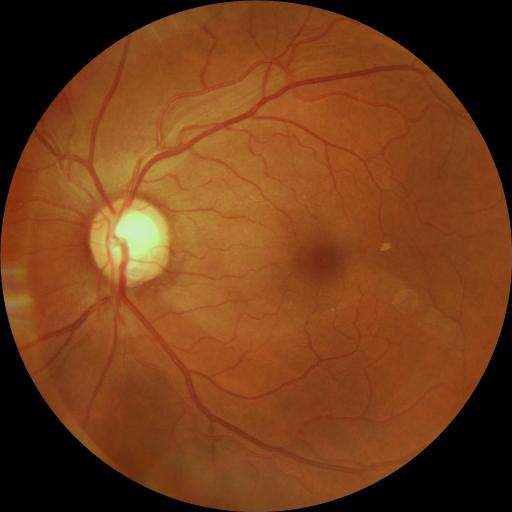Optic Cup: (110, 211, 163, 269)
Optic Disc: (89, 197, 170, 285)
